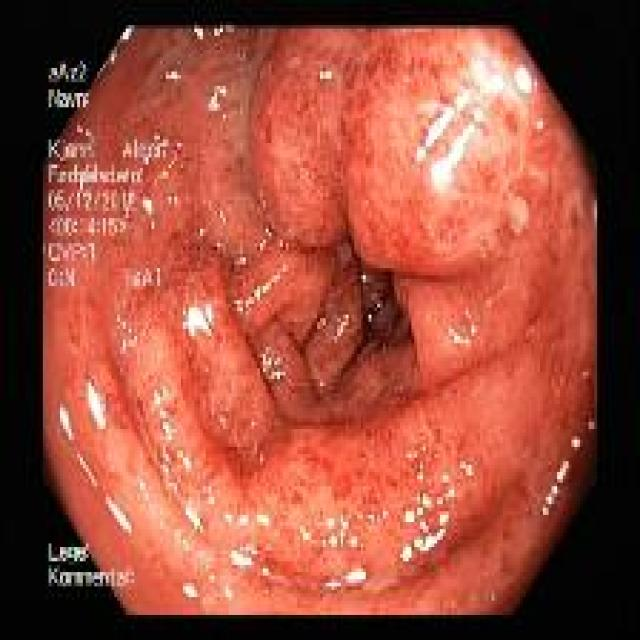ulcerative-colitis: (44, 27, 596, 614)
